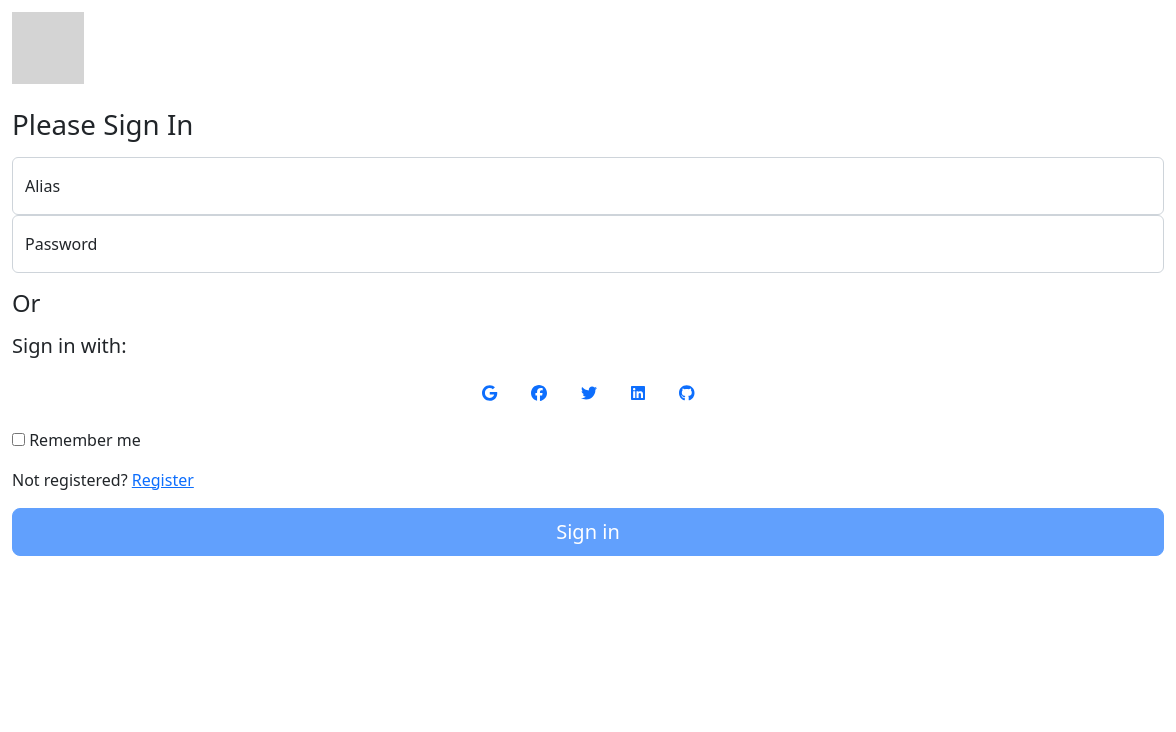
Test: Login Component › enables the sign-in button if both alias and password fields have text
Type "a" into the field labelled "Alias" at (588, 186), box 12,157 -> 1164,215
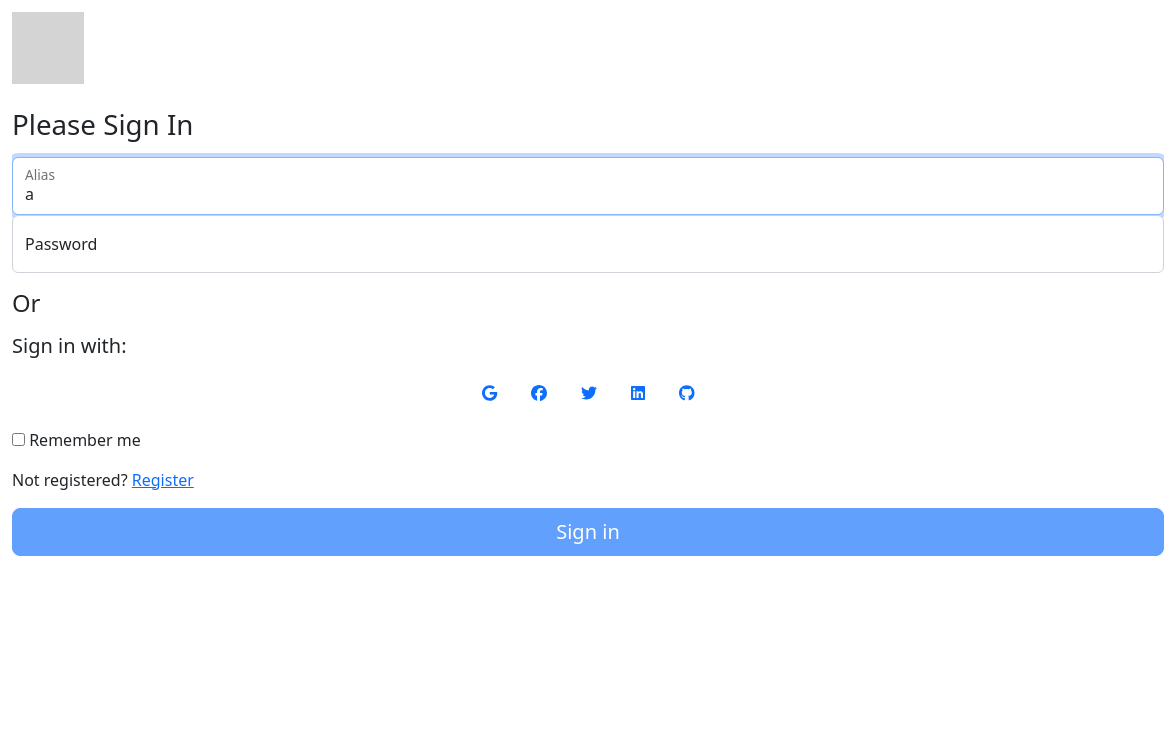
Type "b" into the password field labelled "Password" at (588, 244), box 12,215 -> 1164,273
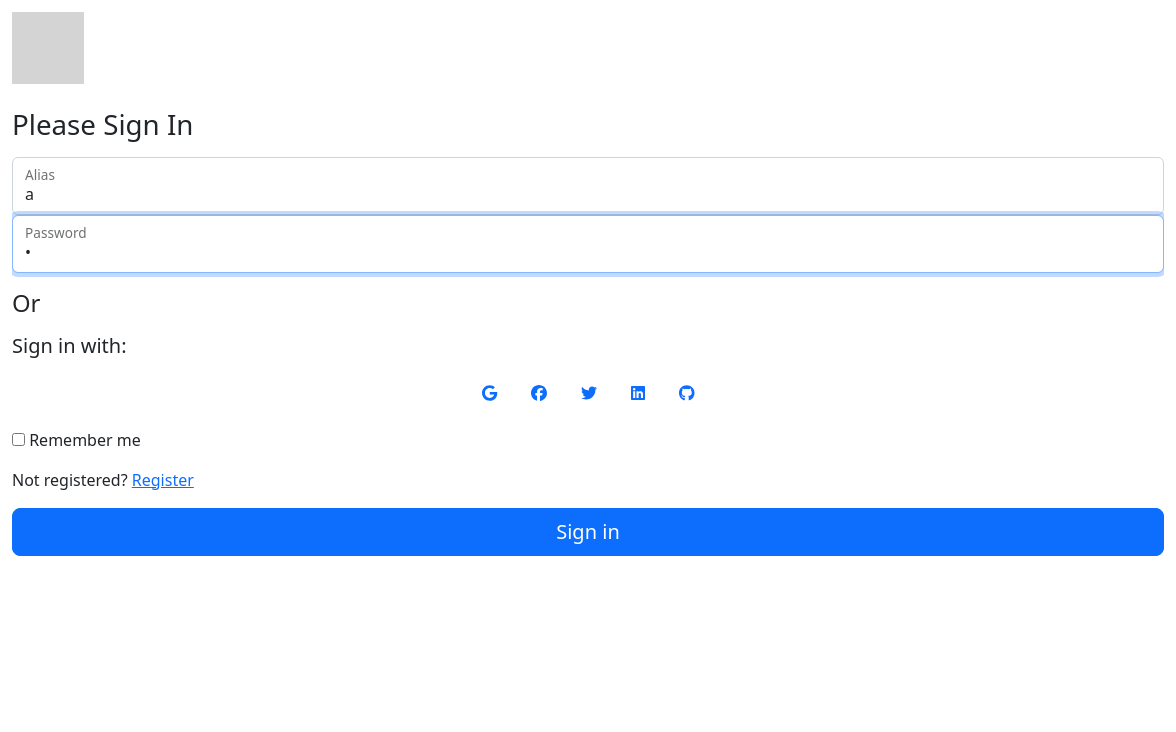
Expected: the button "Sign in" is enabled, 12,508 -> 1164,556
